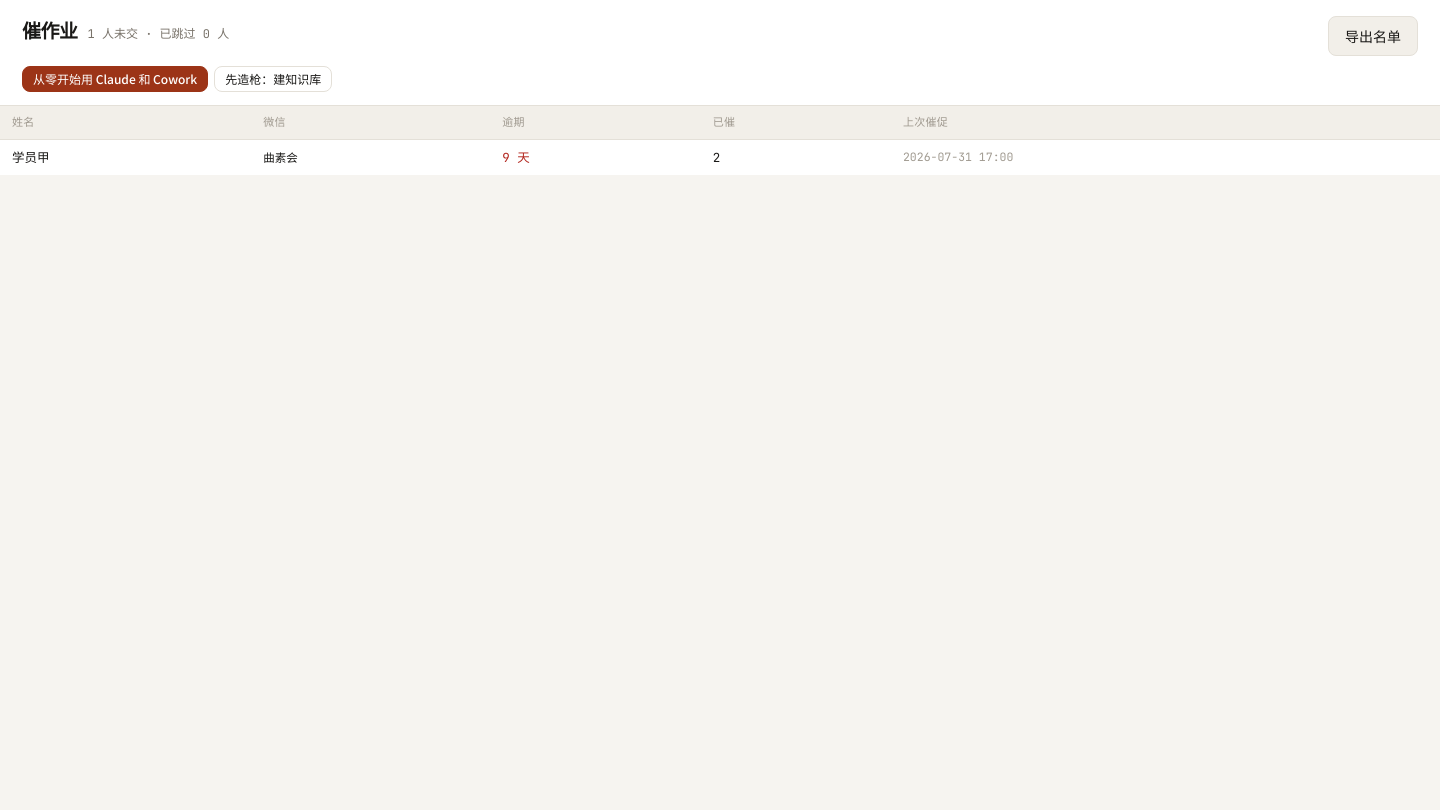
Test: 文案模板 tab › 已催 2 次及以上默认选中最后一次
Click the row with test id "nudge-alpha@example.com".
click(720, 157)  # box [0, 139, 1439, 175]
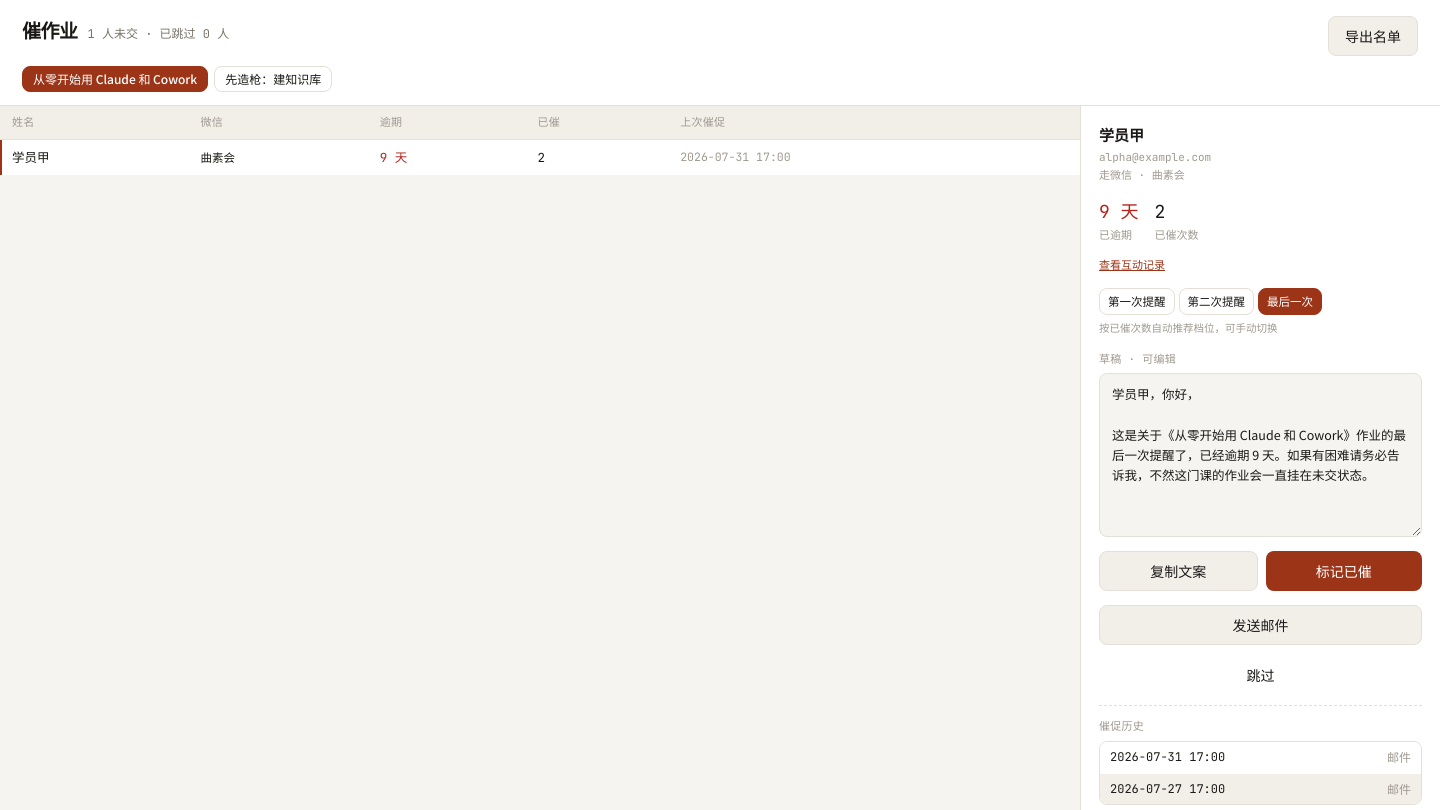
Check: the tab "最后一次" is shown, box [1258, 288, 1322, 315]
